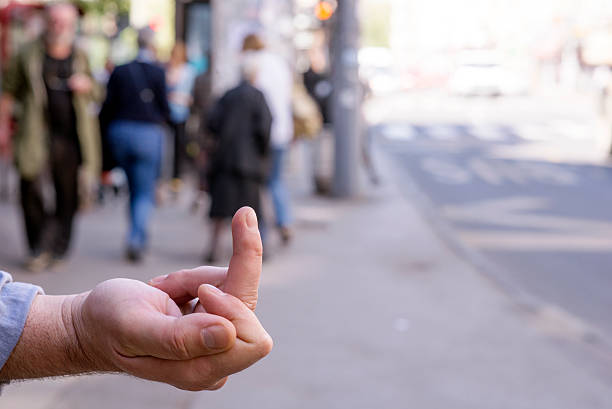insulting_gesture: (77, 203, 275, 396)
